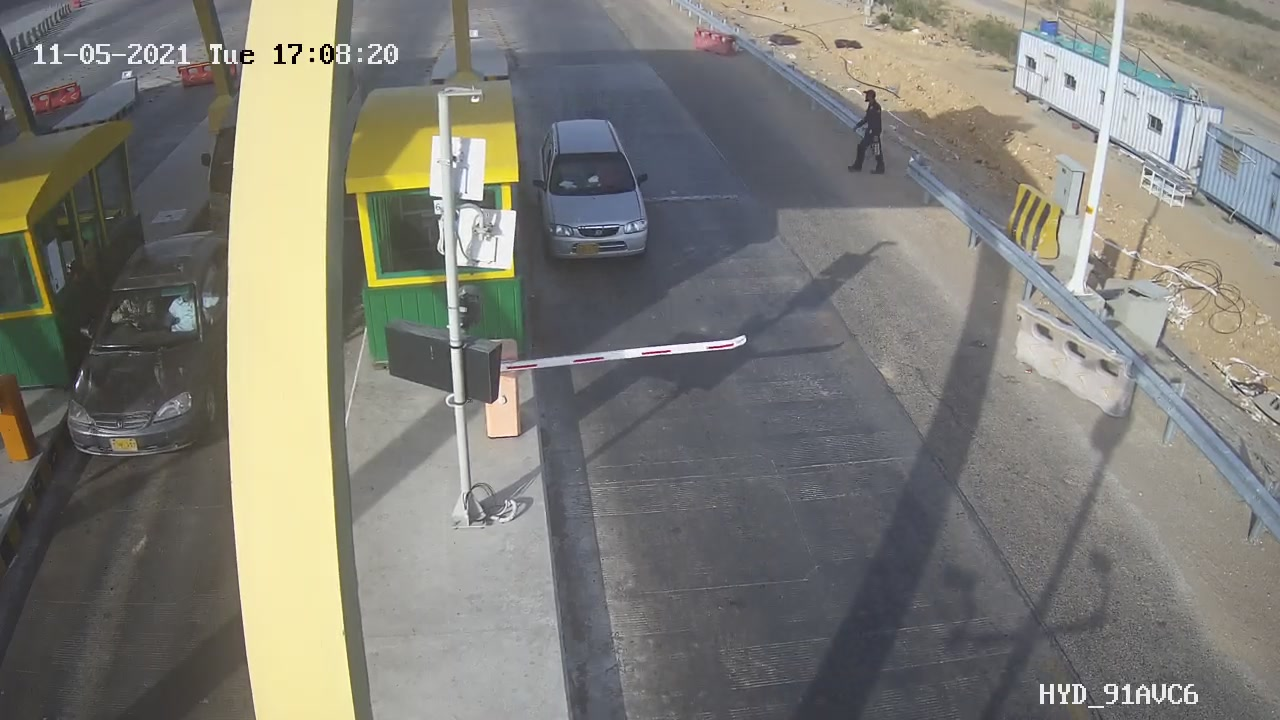F1: (520, 104, 669, 278)
